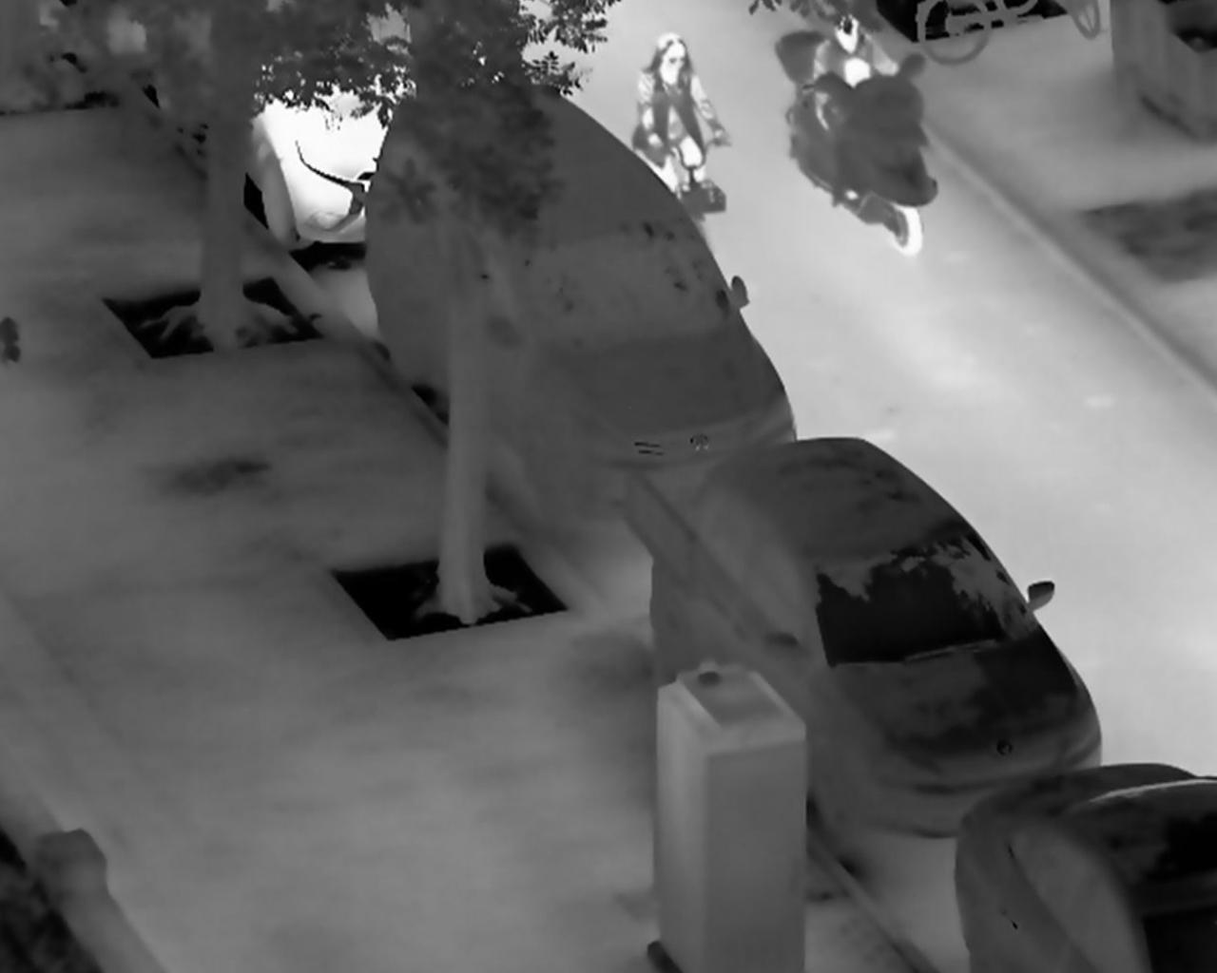person: (631, 29, 732, 204), (804, 10, 911, 128)
